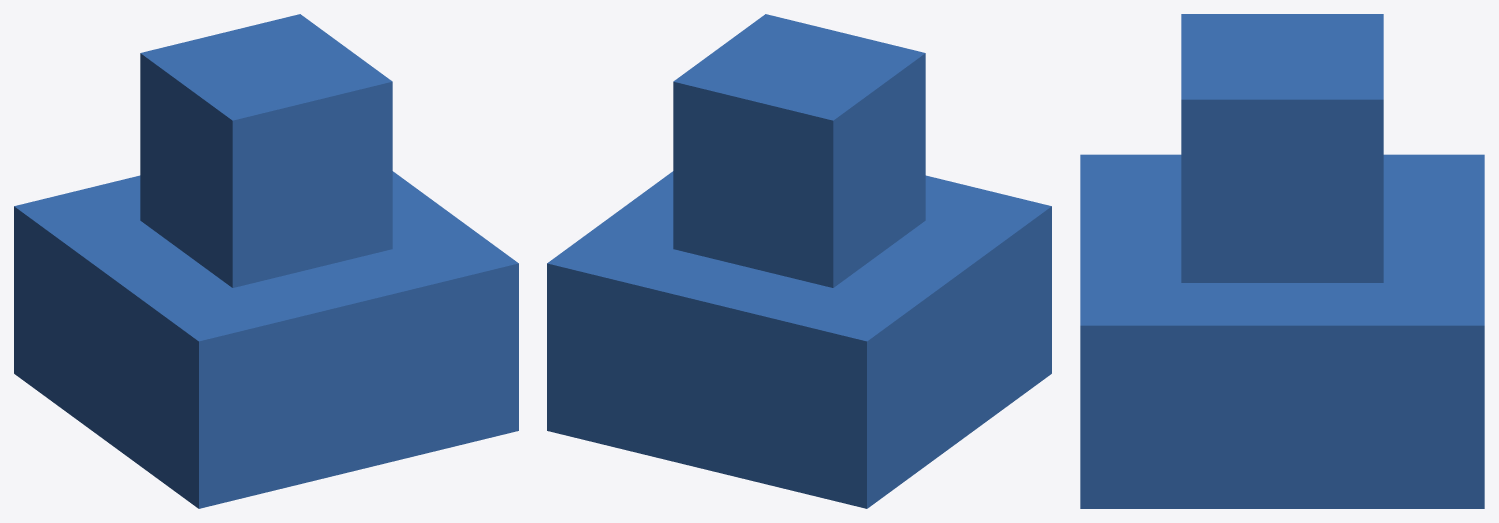
File: stacked-cubes.glb
3 views of the same model, side by side, from view 1: azimuth 30°, elevation 25°; view 2: azimuth 150°, elevation 25°; view 3: azimuth 270°, elevation 25° (orthographic). The views are drawn at different scales.
Visible parts, largest first — view 1: stack; view 2: stack; view 3: stack.
Boxes of the visible parts, bbox=[...] form: stack: bbox=[14, 14, 518, 508]; stack: bbox=[547, 14, 1051, 508]; stack: bbox=[1080, 14, 1484, 508].
Size of the model in its own units: 0.02 by 0.02 by 0.02.
